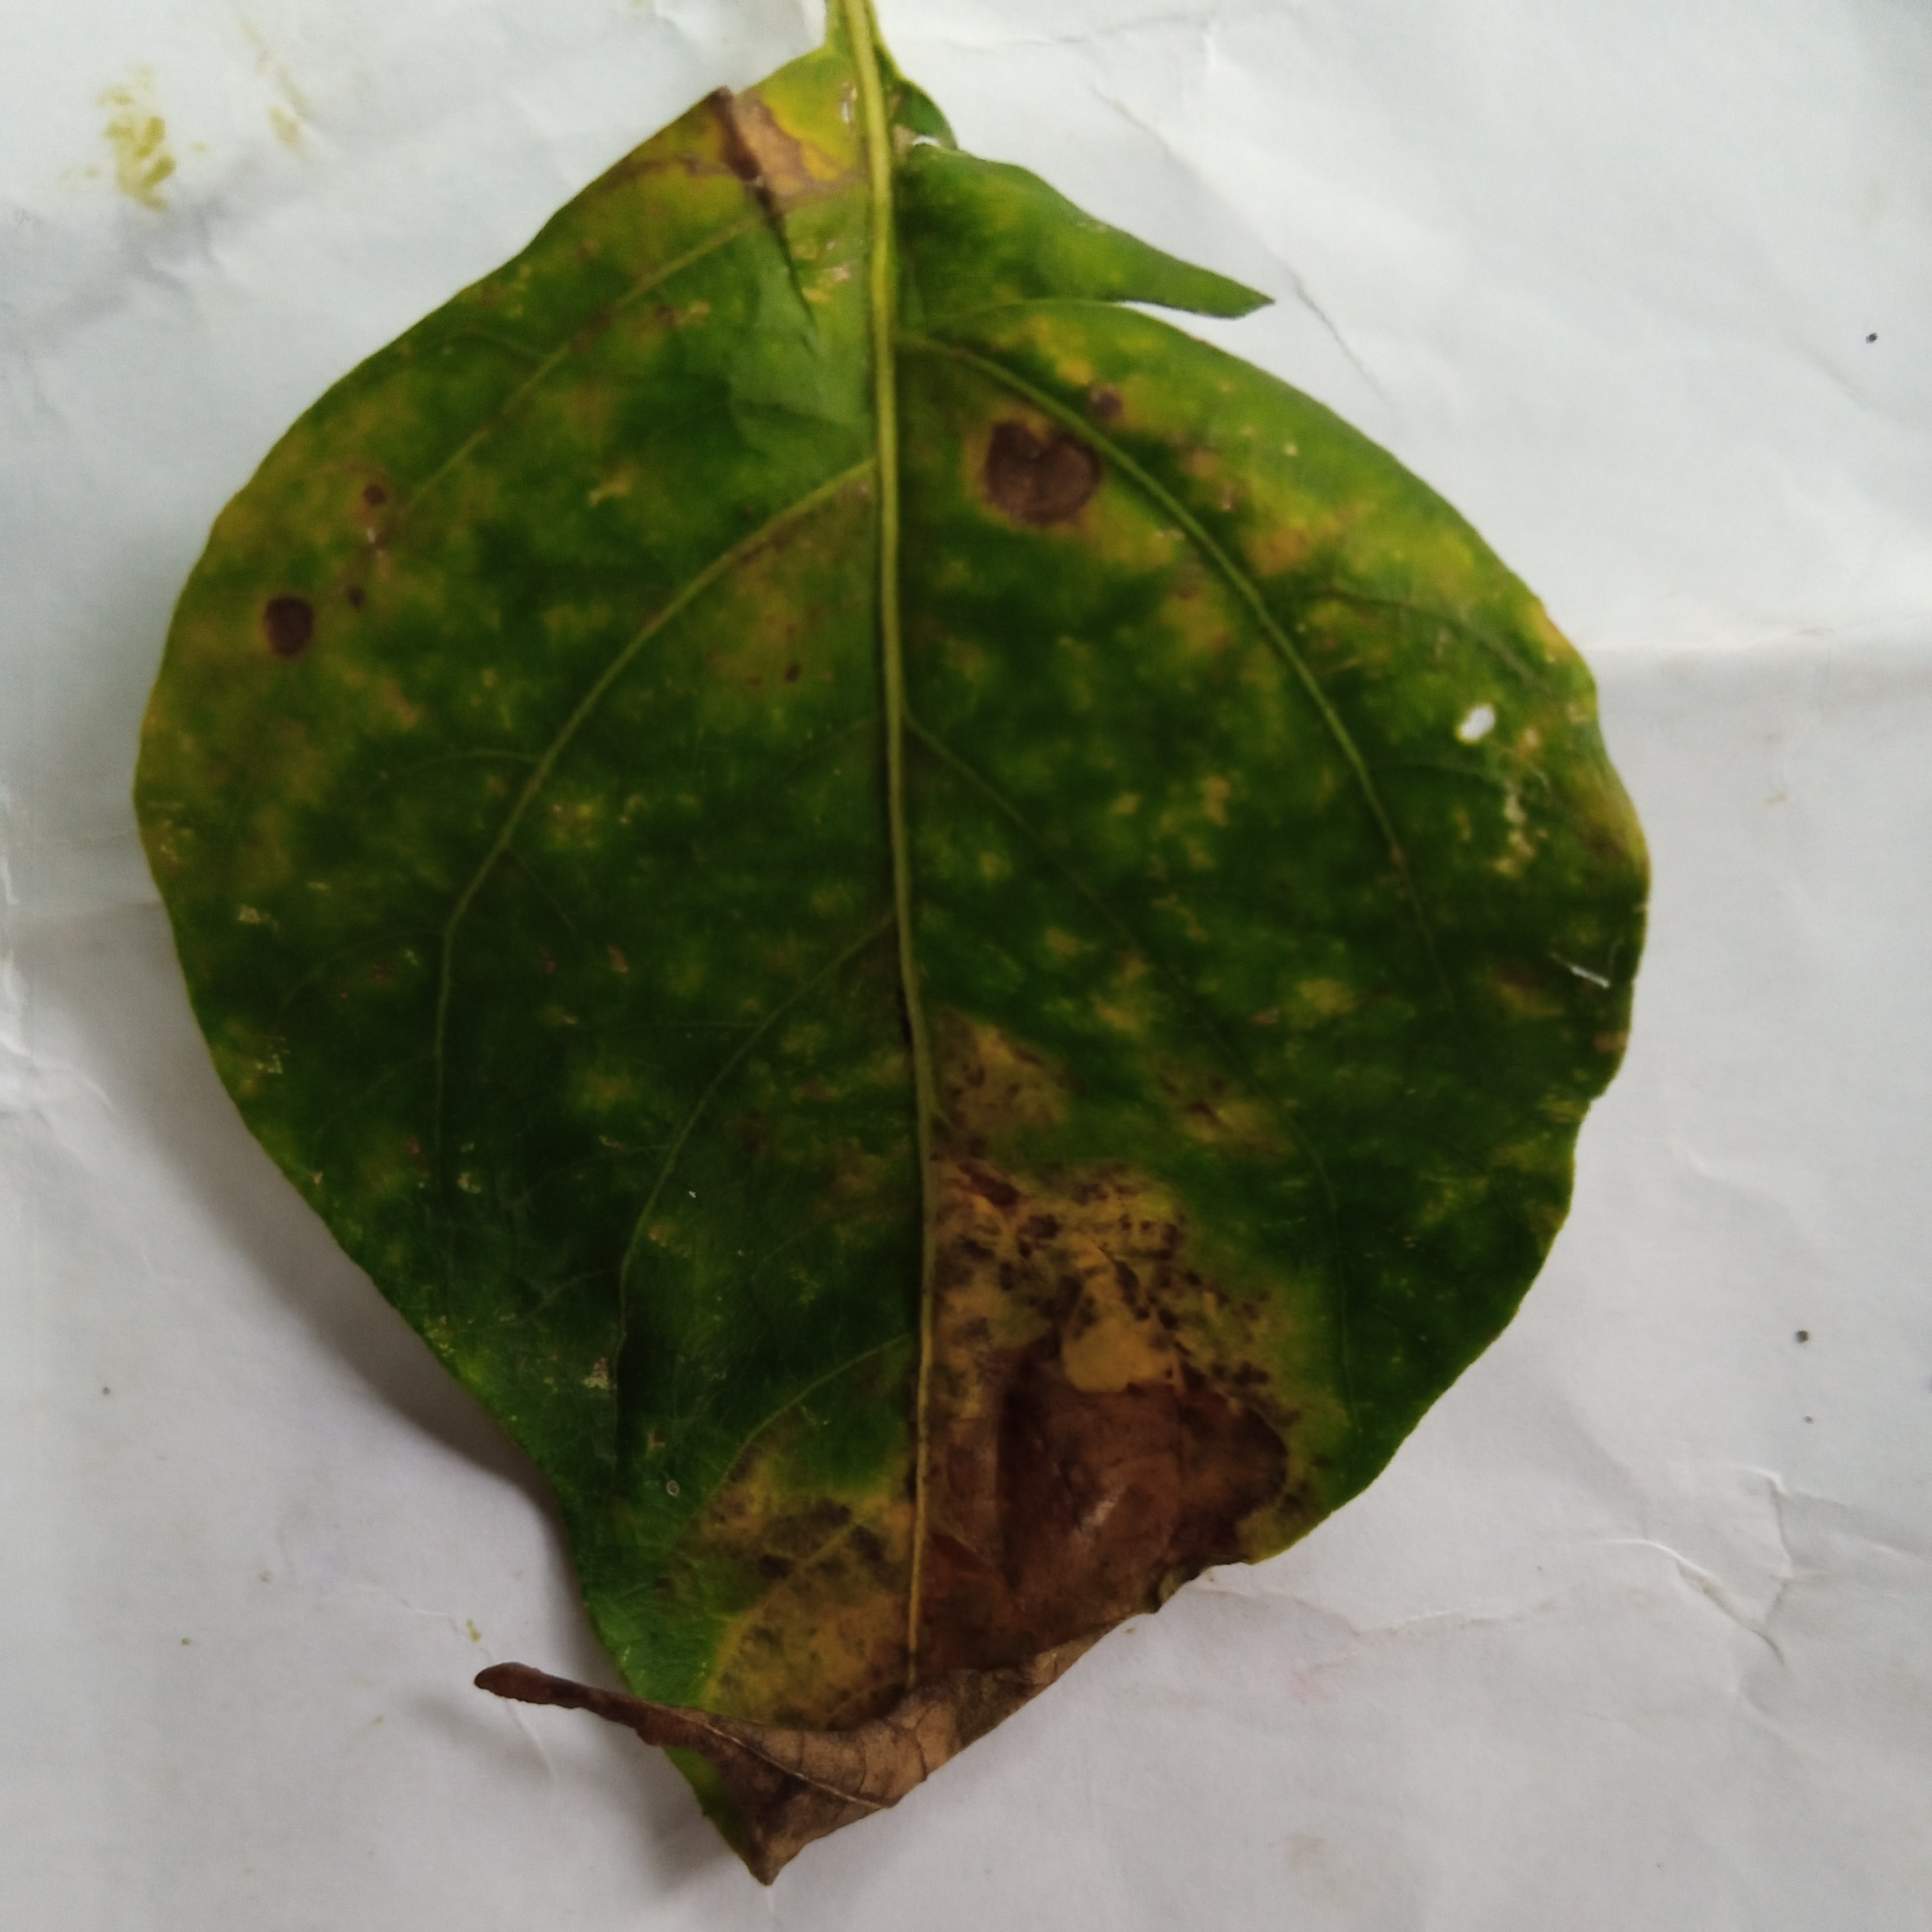Leaf: (37, 21, 1686, 1932)
